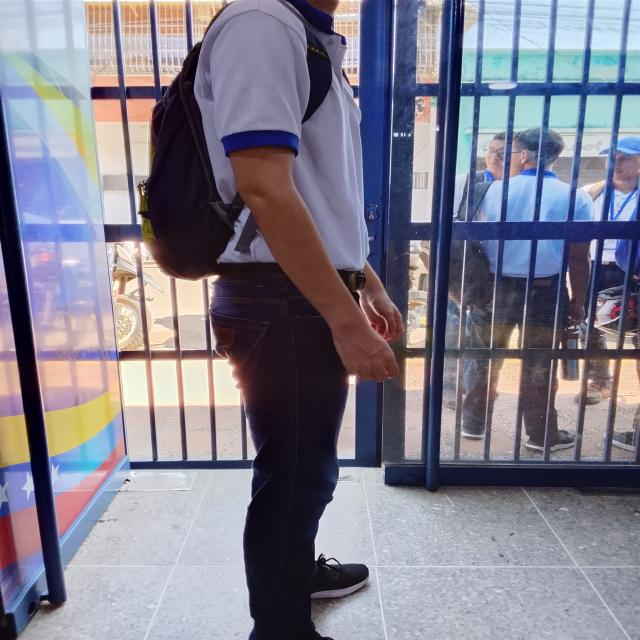carnet: (602, 231, 618, 250)
pantalon_oscuro: (210, 275, 363, 640)
uniforme_superior: (192, 0, 373, 269), (472, 168, 591, 279)
